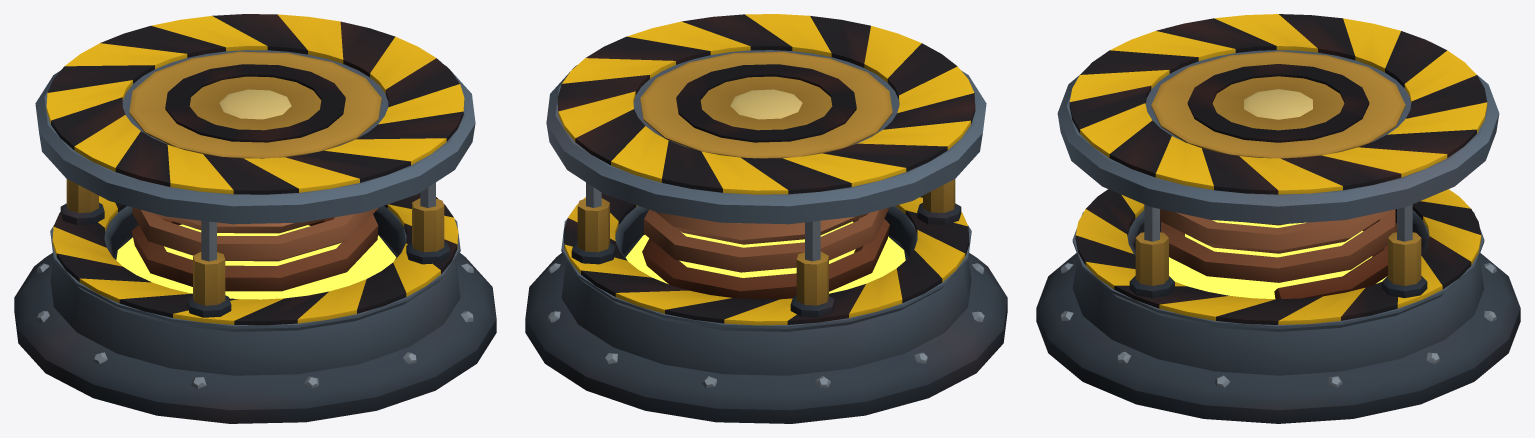
Rendered from bounce_forge.glb.
3 renders of one model, left to right at view 1: azimuth 30°, elevation 25°; view 2: azimuth 150°, elevation 25°; view 3: azimuth 270°, elevation 25°, orthographic.
Visible parts, largest first — view 1: top, bounce_forge; view 2: top, bounce_forge; view 3: top, bounce_forge.
Boxes of the visible parts, x1,y1,x2,y2 form: top: [35, 14, 475, 291]; bounce_forge: [14, 179, 496, 423]; top: [546, 14, 986, 299]; bounce_forge: [525, 179, 1007, 423]; top: [1057, 14, 1499, 299]; bounce_forge: [1036, 189, 1520, 423].
Size of the model in its own units: 1.6 by 0.8 by 1.6.
